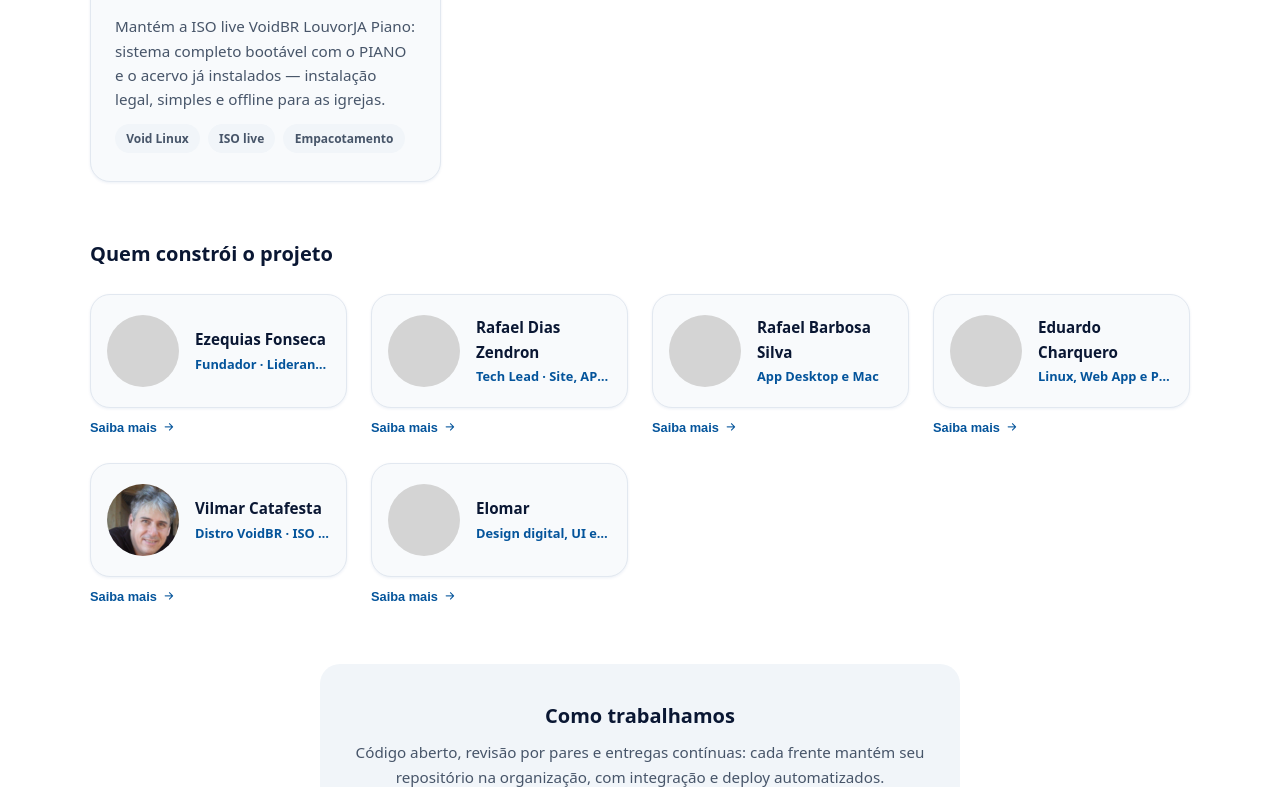
it: TeamSection › modal exibe links extras do membro quando existem
(page scrolled)
Click the button with class "team__person-more" below "Rafael Barbosa Silva".
click(695, 427)  # box [652,416,737,438]
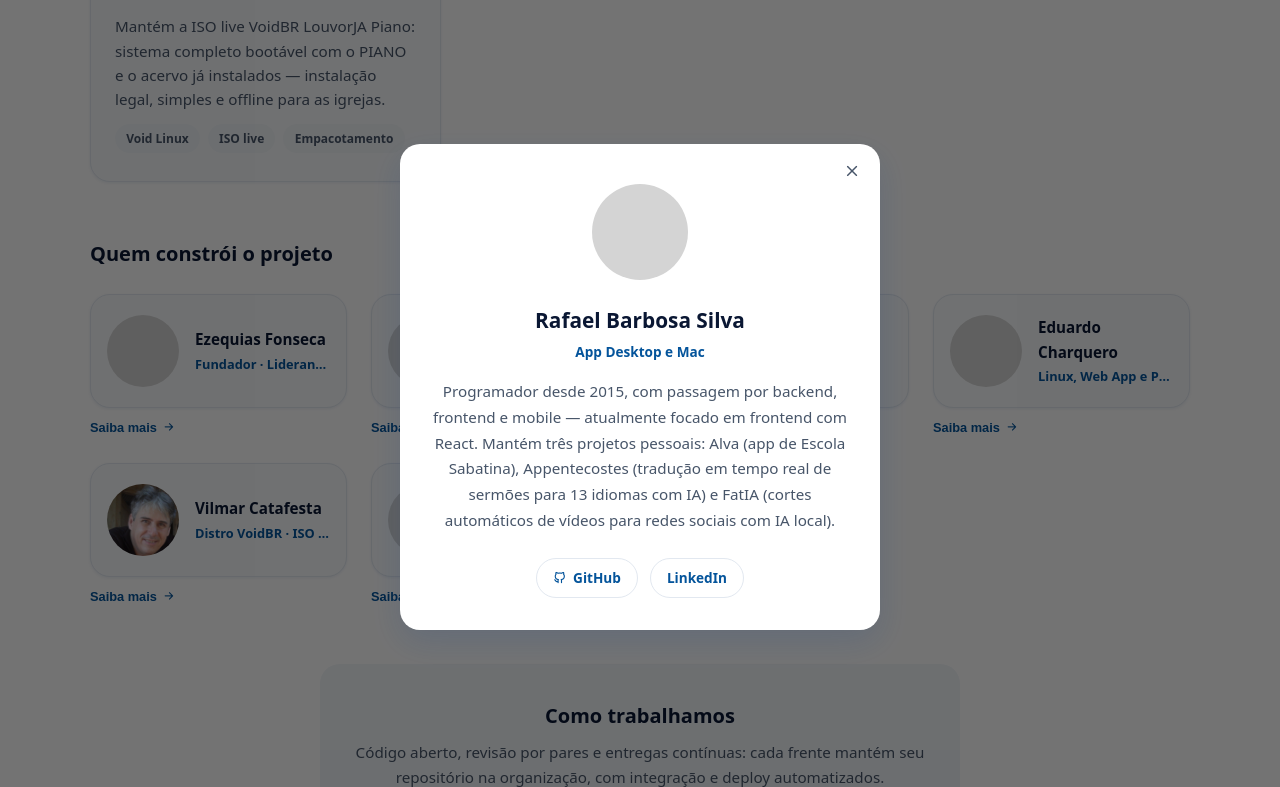
Expected: the link with class "team-modal__profile" showing "LinkedIn" is shown, [650,558,744,598]
